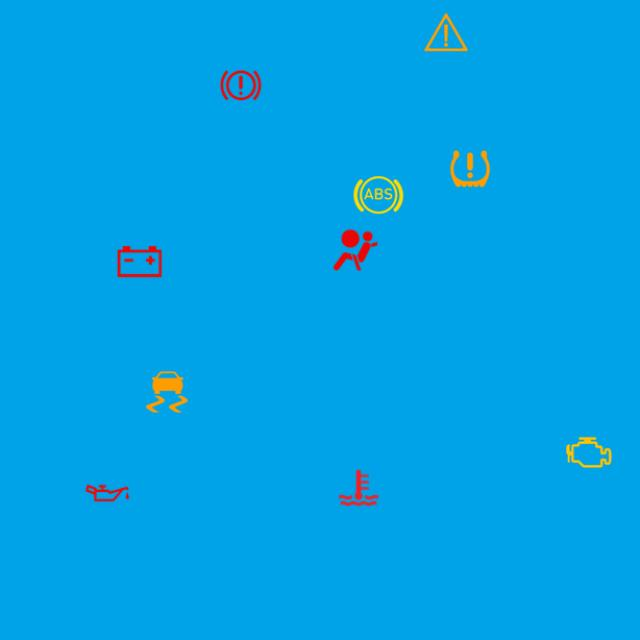Anti Lock Braking System: (352, 168, 406, 222)
Braking System Issue: (214, 59, 268, 112)
Charging System Issue: (112, 234, 166, 288)
Check Engine: (562, 426, 616, 480)
Electronic Stability Problem -ESP-: (140, 365, 194, 419)
Engine Overheating Warning Light: (332, 461, 386, 515)
Low Engine Oil Warning Light: (80, 466, 134, 520)
Low Tire Pressure Warning Light: (443, 142, 497, 196)
Master warning light: (419, 5, 473, 60)
SRS-Airbag: (328, 223, 382, 277)
